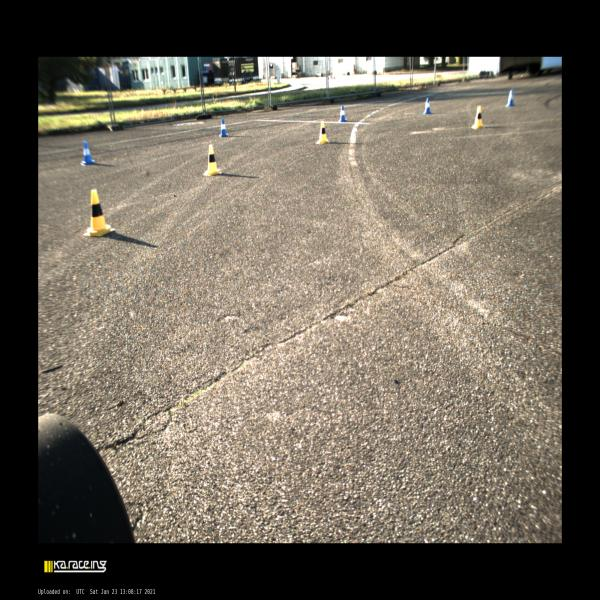blue_cone: (80, 140, 95, 166), (504, 89, 515, 107), (422, 96, 432, 115), (219, 118, 229, 137), (338, 105, 347, 122)
yellow_cone: (84, 190, 114, 237), (204, 144, 221, 176), (315, 120, 329, 145), (471, 105, 484, 129)
